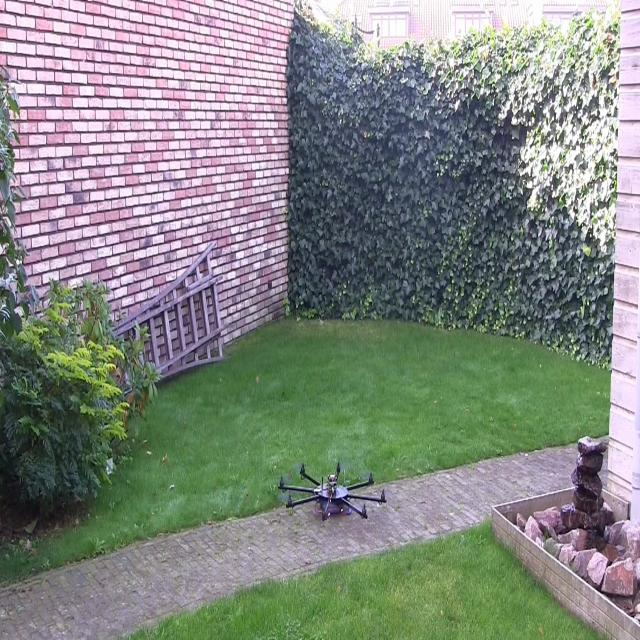drone: (266, 445, 397, 546)
